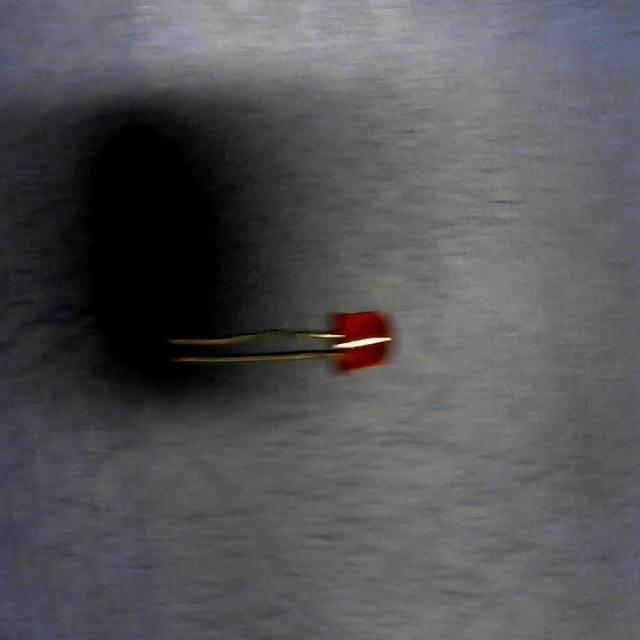LED: (167, 306, 390, 373)
